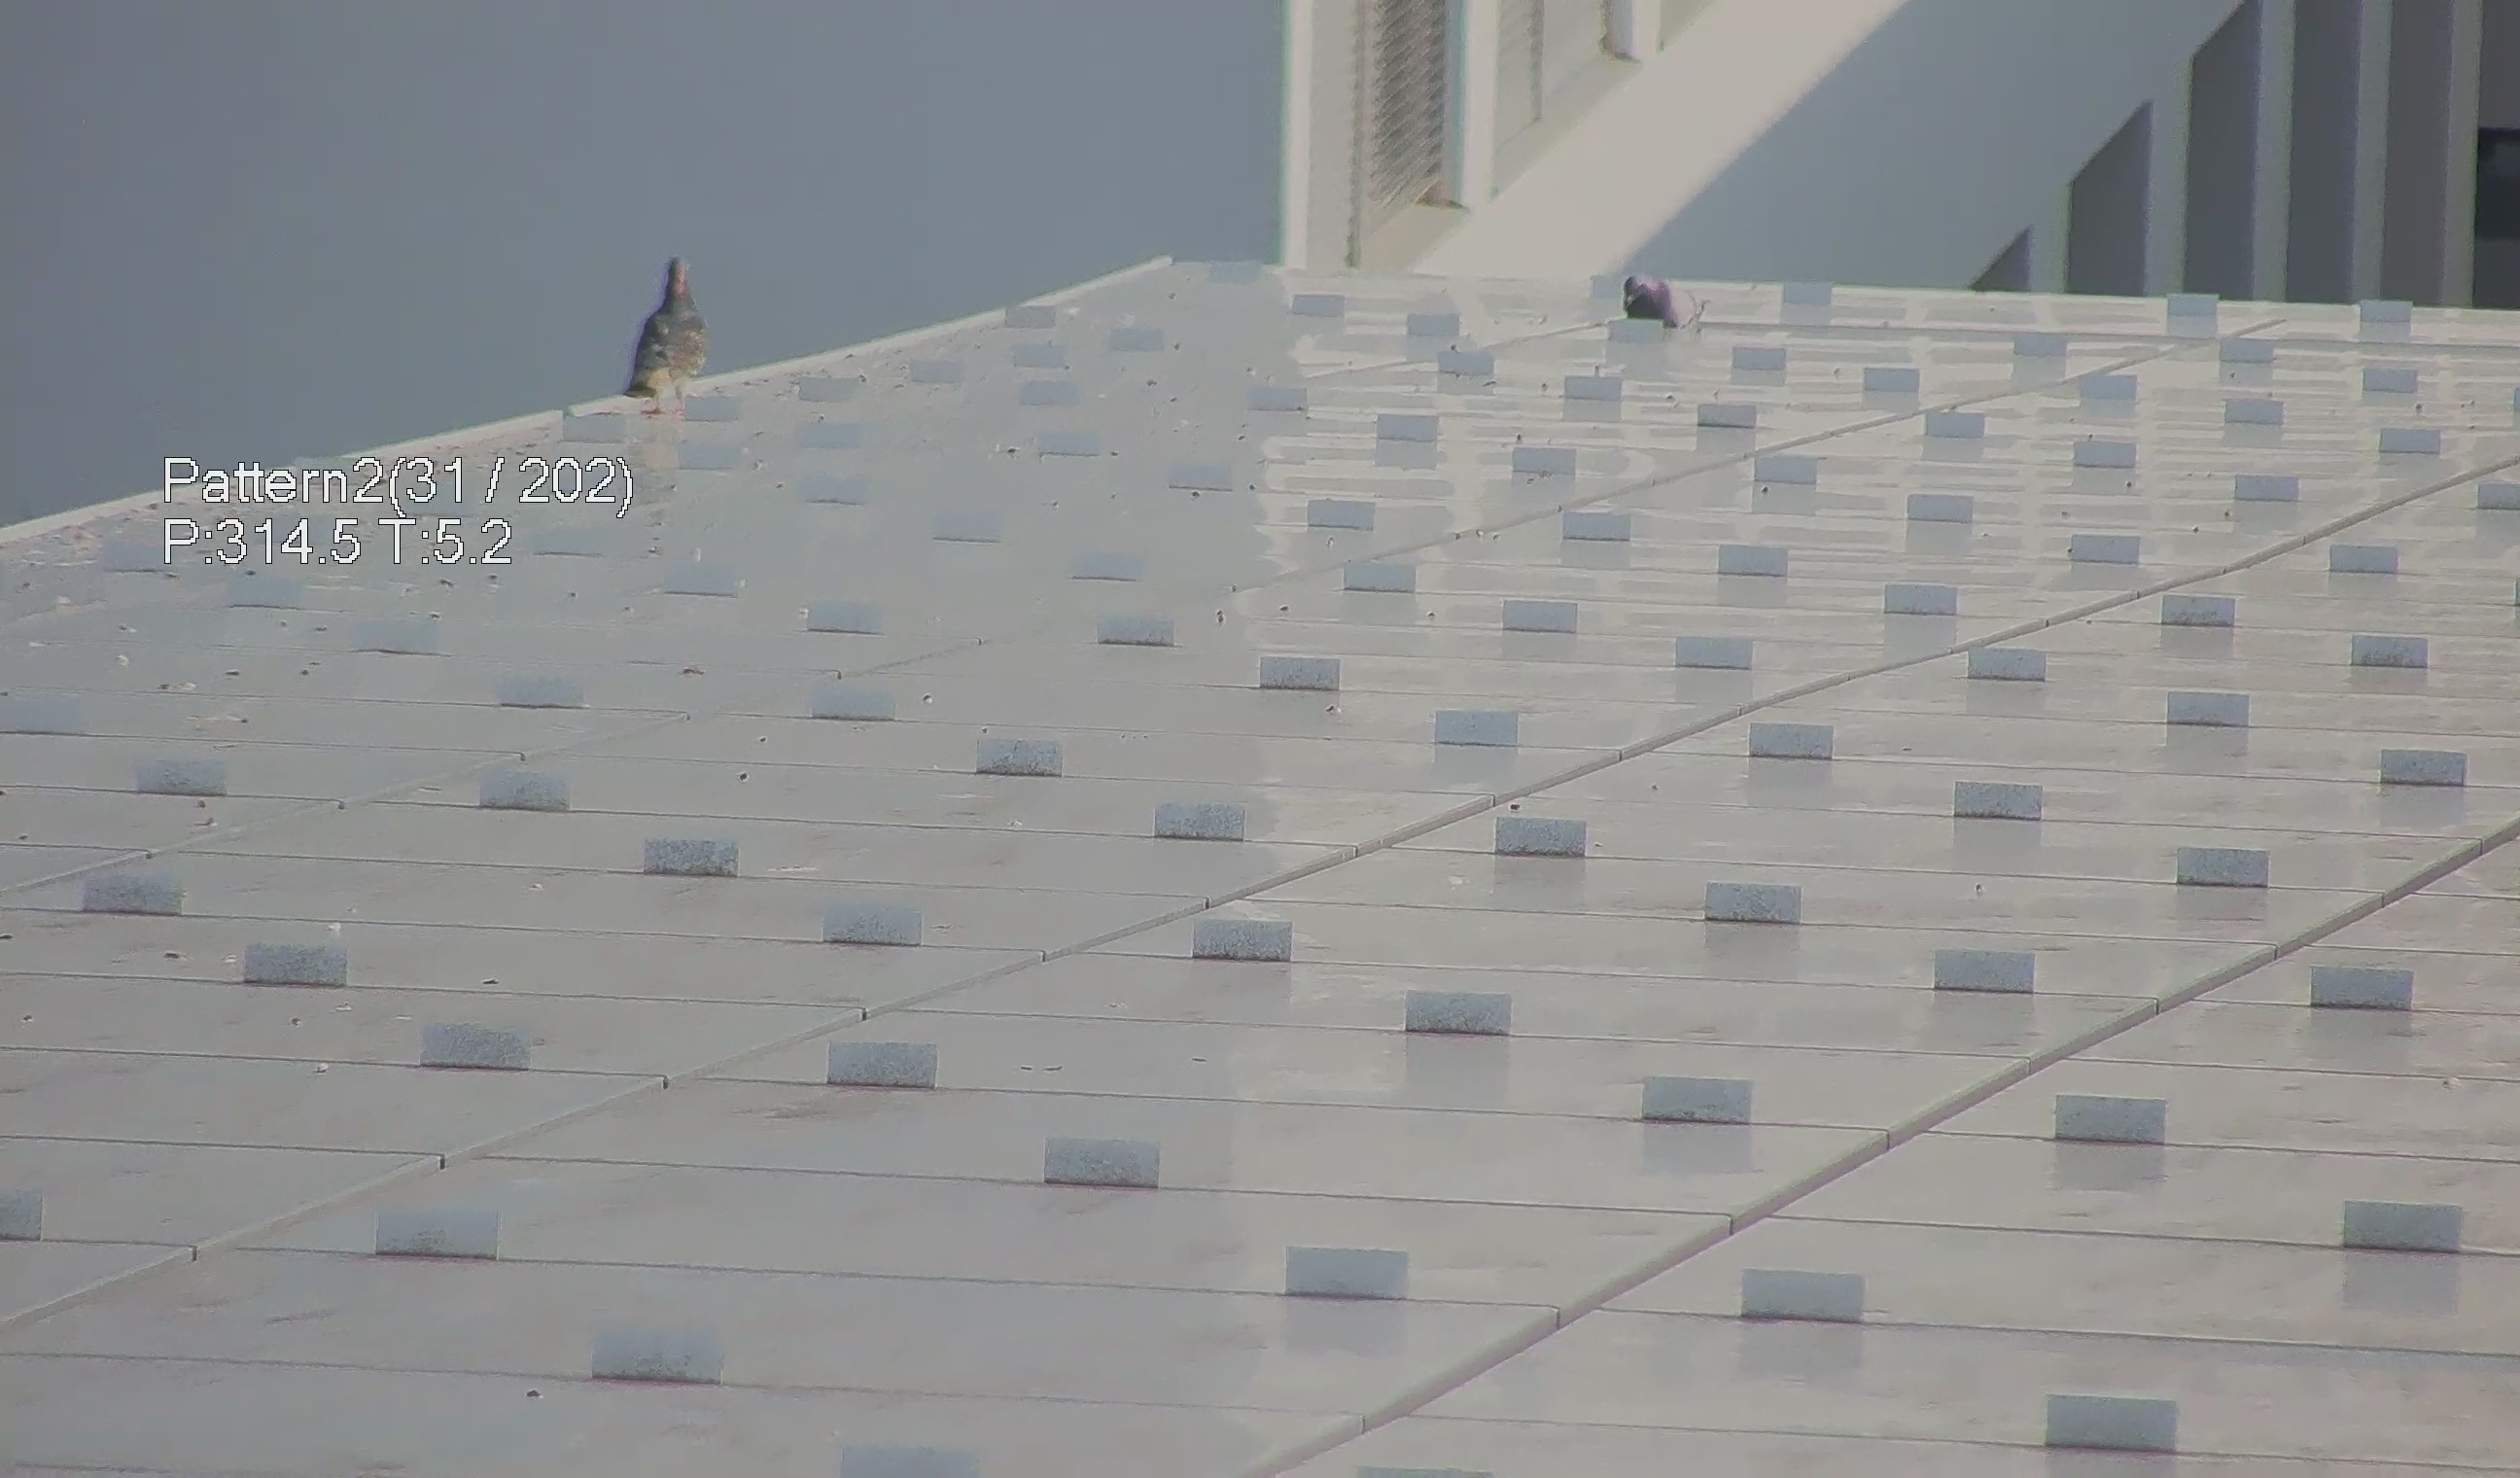Pigeon: (593, 243, 705, 399), (1607, 271, 1718, 343)
